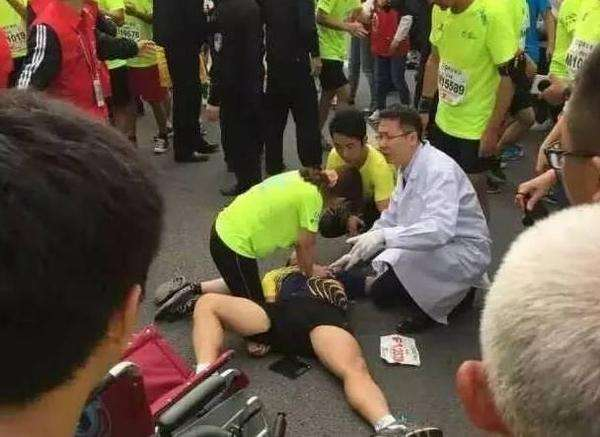10+: (1, 1, 600, 437)
down: (186, 249, 402, 430)
